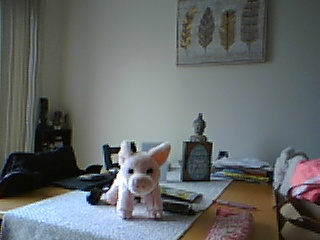piggy: (104, 139, 173, 221)
